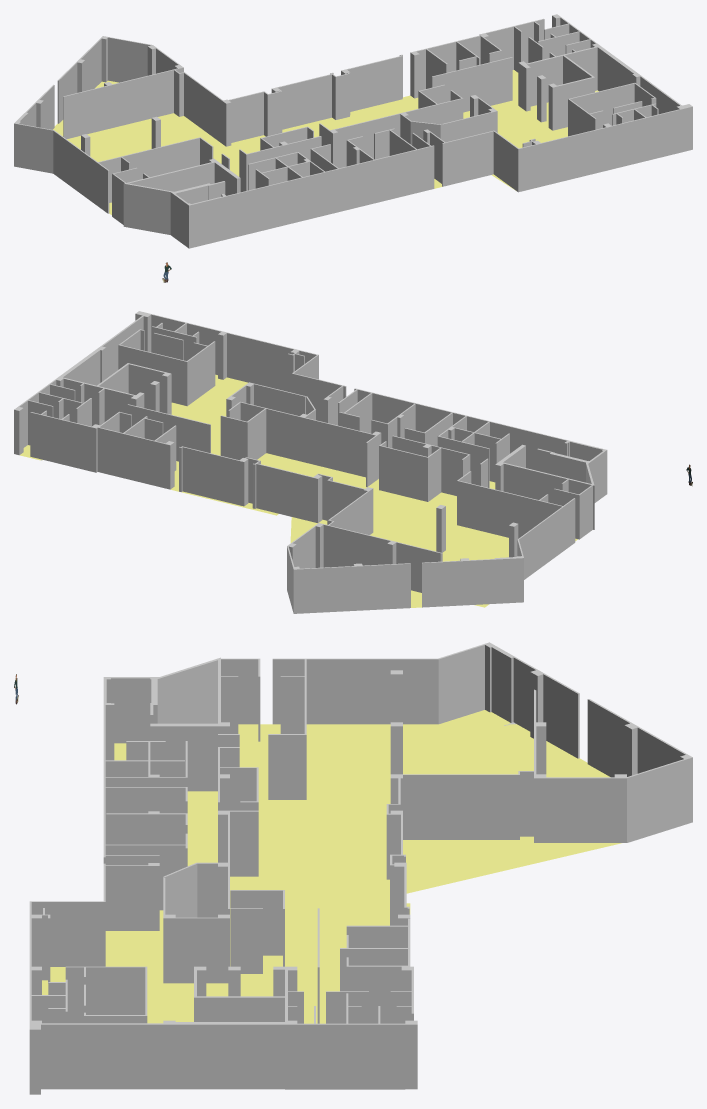
Rendered from 1ST FLOOR 1.fbx.
The picture shows the model from 3 angles, top to bottom: view 1: azimuth 30°, elevation 25°; view 2: azimuth 150°, elevation 25°; view 3: azimuth 270°, elevation 25°; orthographic projection. The views are drawn at different scales.
Parts seen in each view (by area): view 1: Group119, Group63, Group161, Group11, Group147, Group22, Group13, Group35, Group57, Group160, Group127, Group15 (+53 smaller); view 2: Group119, Group13, Group10, Group21, Group88, Group58, Group57, Group11, Group161, Group129, Group94, Group19 (+52 smaller); view 3: Group119, Group79, Group43, Group80, Group84, Group25, Group51, Group127, Group136, Group73, Group35, Group50 (+49 smaller).
Boxes of the visible parts, left/top/right/bottom form: Group119: left=53, top=70, right=598, bottom=214; Group63: left=612, top=109, right=680, bottom=169; Group161: left=113, top=68, right=178, bottom=127; Group11: left=346, top=55, right=402, bottom=111; Group147: left=442, top=131, right=493, bottom=186; Group22: left=383, top=145, right=434, bottom=201; Group13: left=98, top=137, right=200, bottom=202; Group35: left=123, top=179, right=173, bottom=235; Group57: left=277, top=74, right=332, bottom=129; Group160: left=63, top=85, right=107, bottom=138; Group127: left=493, top=130, right=536, bottom=192; Group15: left=227, top=185, right=270, bottom=239; Group119: left=20, top=374, right=577, bottom=607; Group13: left=457, top=480, right=562, bottom=538; Group10: left=97, top=427, right=165, bottom=488; Group21: left=344, top=563, right=410, bottom=611; Group88: left=304, top=417, right=371, bottom=477; Group58: left=30, top=412, right=91, bottom=471; Group57: left=255, top=463, right=312, bottom=521; Group11: left=181, top=446, right=238, bottom=504; Group161: left=323, top=524, right=390, bottom=567; Group129: left=118, top=329, right=187, bottom=406; Group94: left=300, top=566, right=342, bottom=613; Group19: left=422, top=560, right=461, bottom=607; Group119: left=42, top=710, right=621, bottom=1023; Group79: left=42, top=1023, right=163, bottom=1089; Group43: left=403, top=774, right=519, bottom=839; Group80: left=175, top=1022, right=284, bottom=1089; Group84: left=297, top=1023, right=405, bottom=1089; Group25: left=546, top=777, right=614, bottom=842; Group51: left=308, top=658, right=372, bottom=724; Group127: left=29, top=901, right=105, bottom=966; Group136: left=65, top=966, right=145, bottom=1023; Group73: left=627, top=759, right=685, bottom=842; Group35: left=157, top=657, right=220, bottom=723; Group50: left=372, top=658, right=431, bottom=724.
Size of the model in its own units: 45.45 by 3.52 by 33.17.
